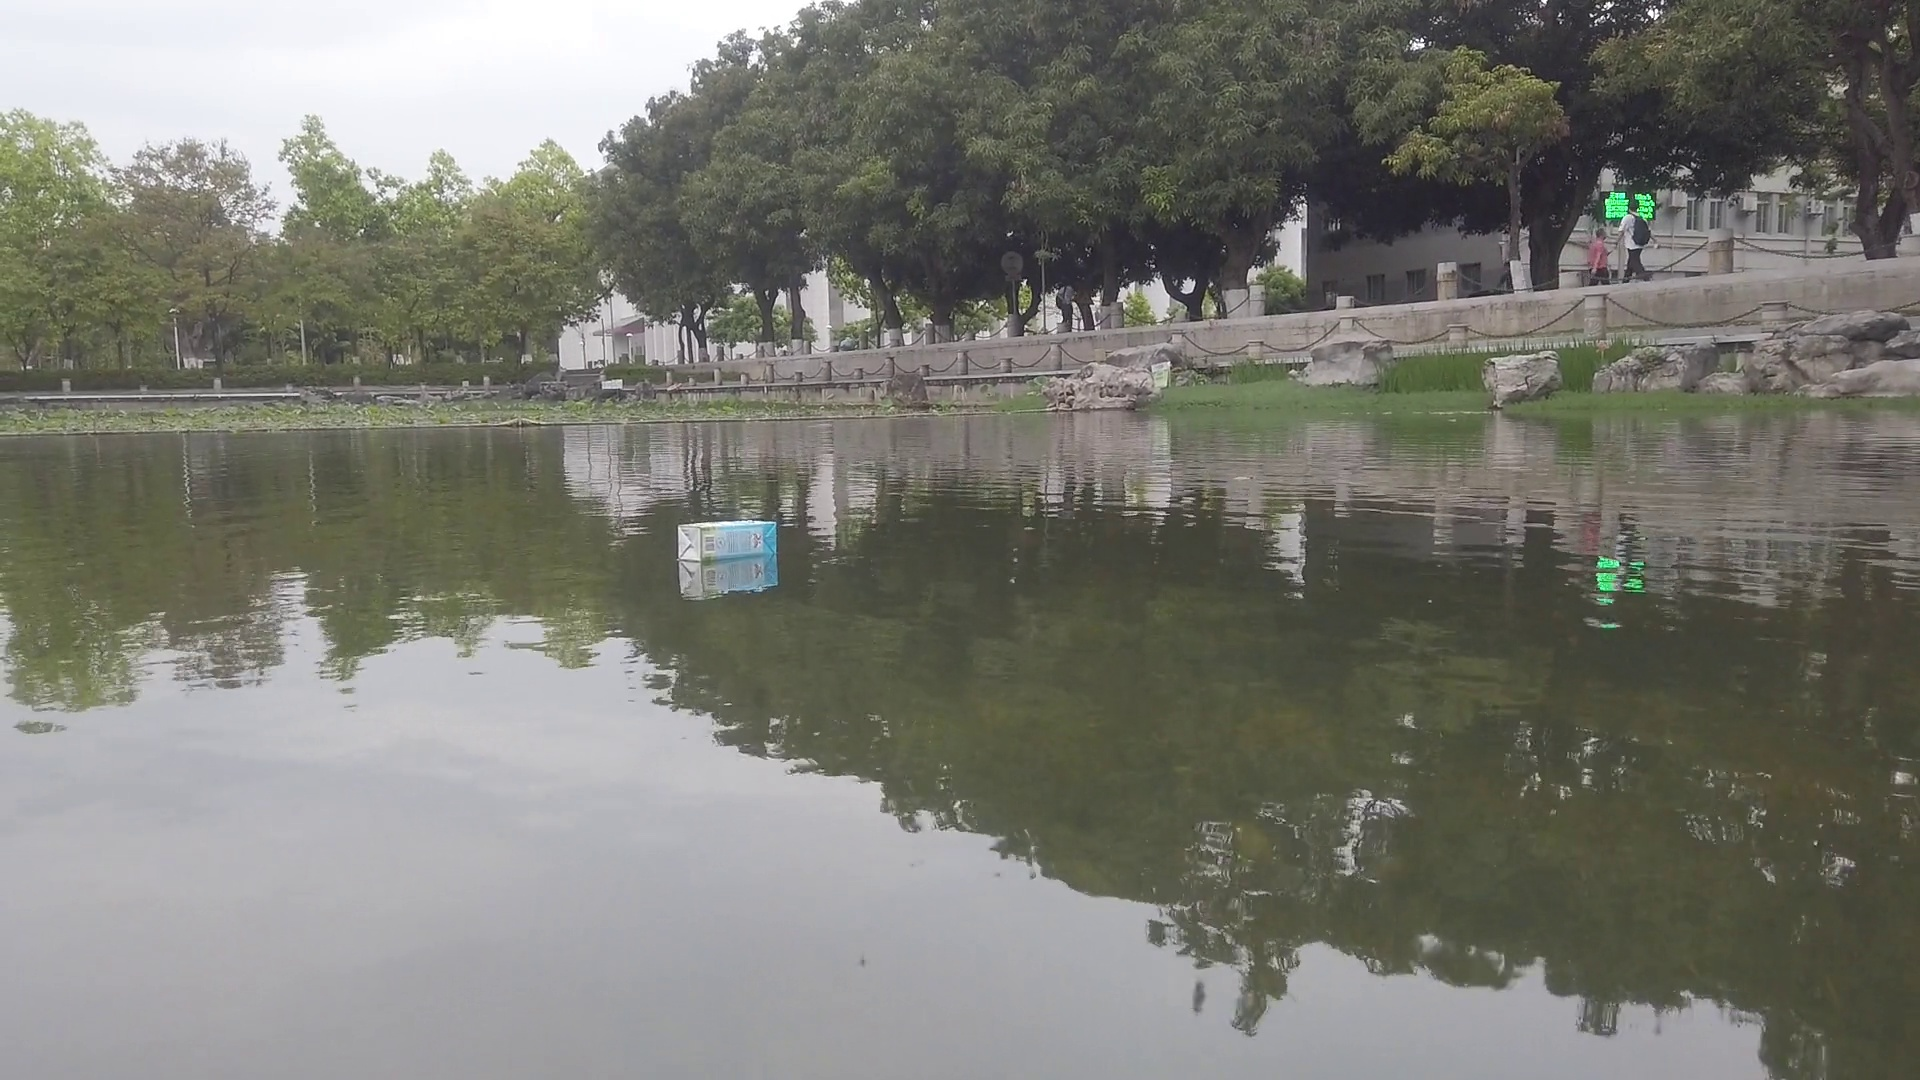carton: (675, 521, 778, 560)
